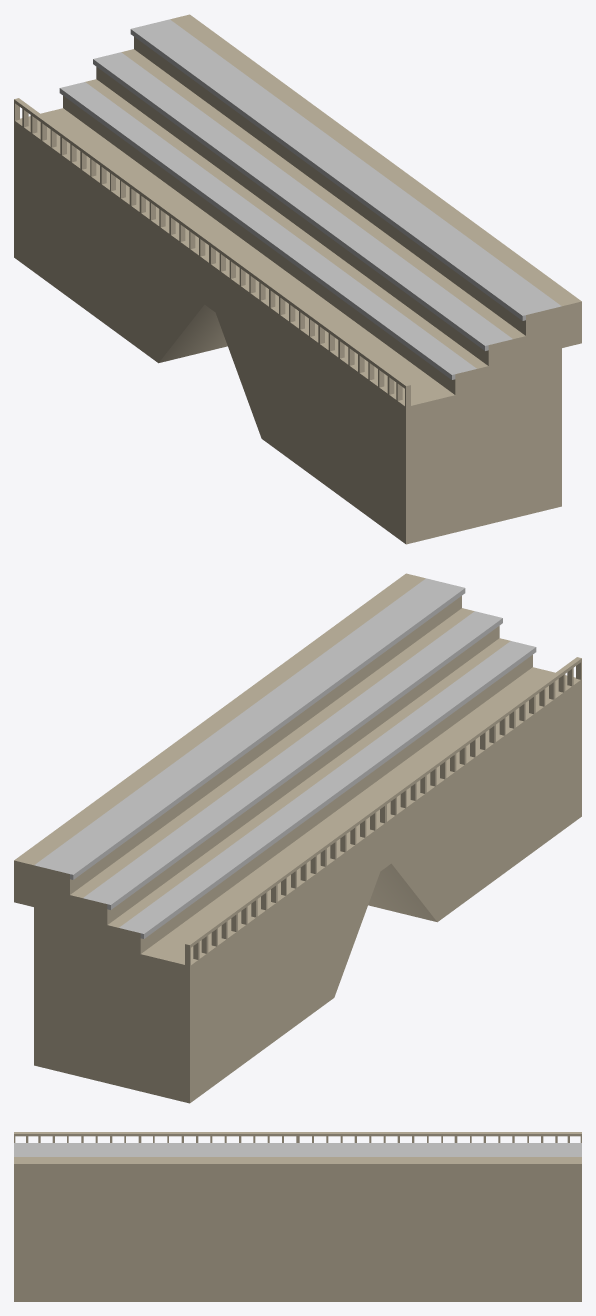
Rendered from Арена Кринге.FBX.
3 renders of one model, top to bottom at view 1: azimuth 30°, elevation 25°; view 2: azimuth 150°, elevation 25°; view 3: azimuth 270°, elevation 25°, orthographic. The views are drawn at different scales.
Parts seen in each view (by area): view 1: Box065; view 2: Box065; view 3: Box065.
Part boxes in pixels (<box>): Box065: <box>14,14,581,544</box>; Box065: <box>14,573,581,1103</box>; Box065: <box>14,1132,581,1301</box>.
Bounding box in the file's own units: 88.02 × 95.72 × 340.
